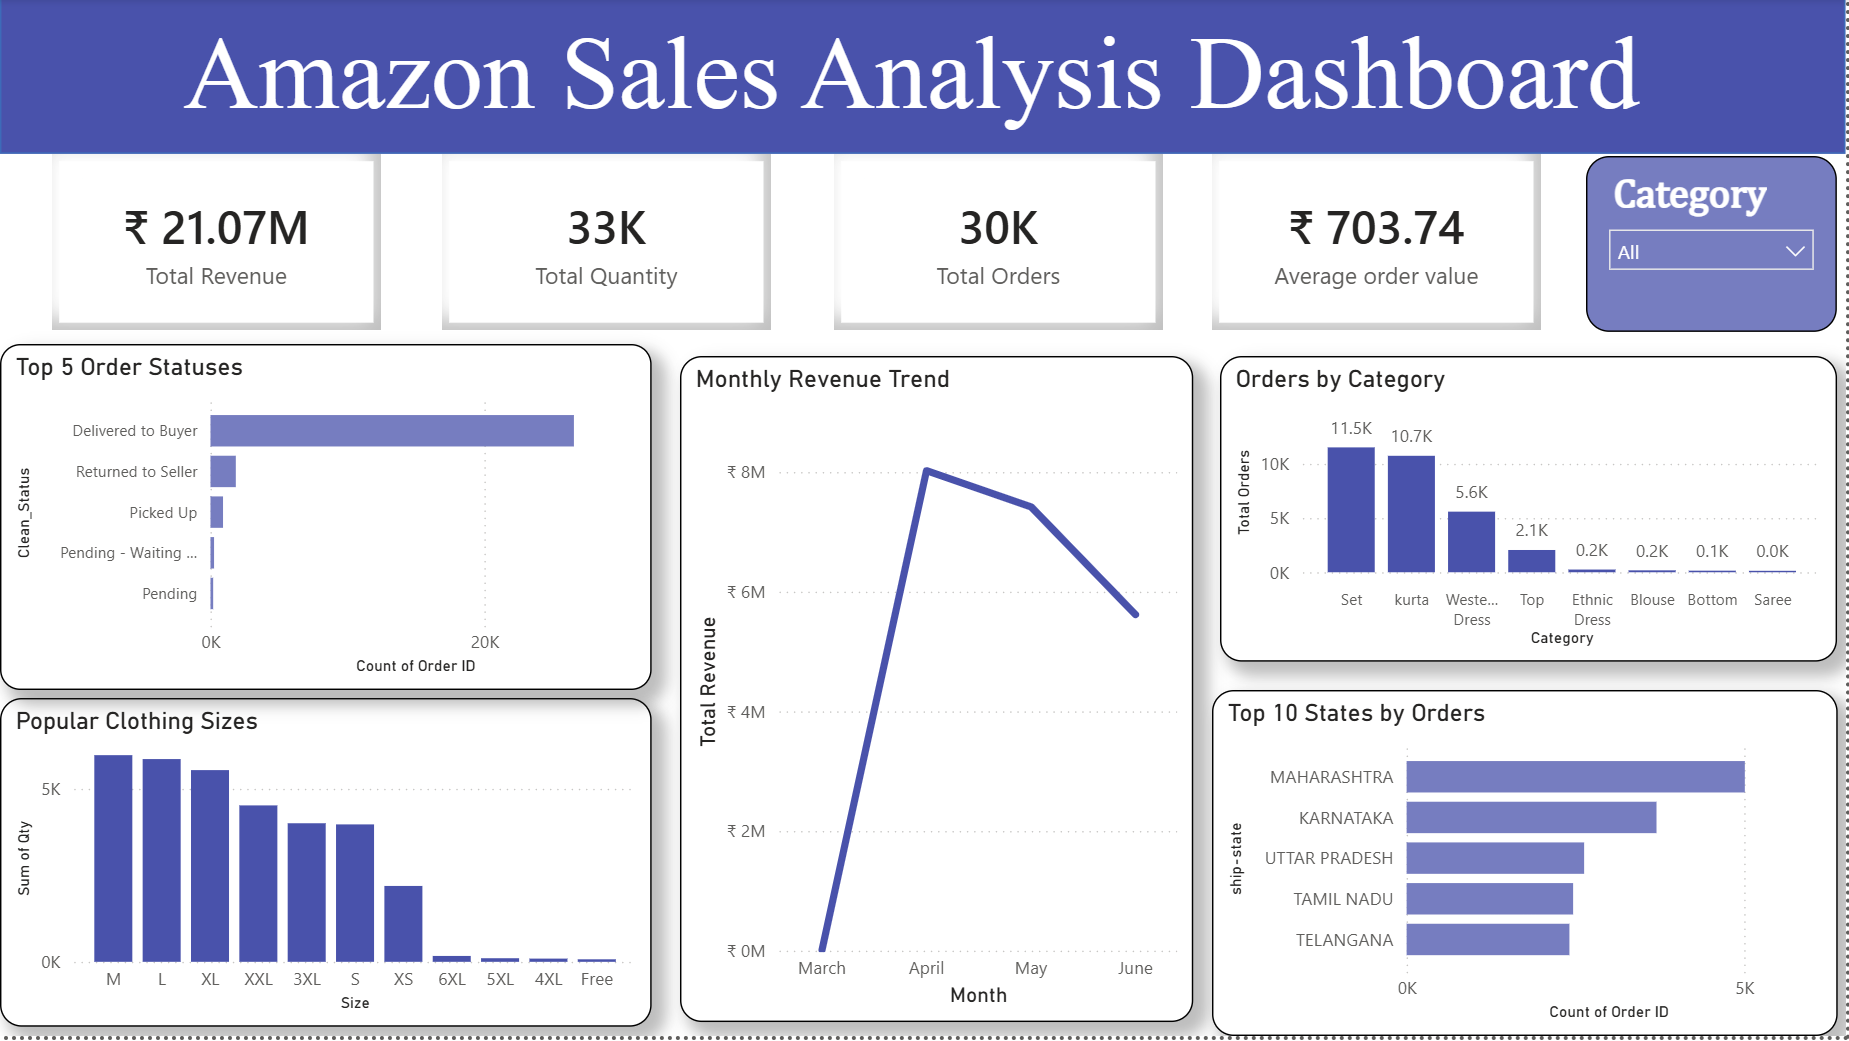

The dashboard page shown, as its layout file describes it:
{"tool":"powerbi","page":{"name":"Page 1","canvas":[1280,720],"ordinal":0},"visuals":[{"type":"lineChart","title":"Monthly Revenue Trend","fields":{"Category":["Table1.Date.Variation.Date Hierarchy.Month"],"Y":["Table1.Total Revenue"]},"box":[472,248,356,462],"z":0},{"type":"clusteredColumnChart","title":"Orders by Category","fields":{"Category":["Table1.Category"],"Y":["Table1.Total Orders"]},"box":[846,248,428,212],"z":1000},{"type":"clusteredBarChart","title":"Top 10 States by Orders","fields":{"Category":["Table1.ship-state"],"Y":["Table1.Count of Order ID"]},"box":[840,480,434,240],"z":2000},{"type":"columnChart","title":"Popular Clothing Sizes","fields":{"Category":["Table1.Size"],"Y":["Sum(Table1.Qty)"]},"box":[0,486,452,228],"z":3000},{"type":"clusteredBarChart","title":"Top 5 Order Statuses","fields":{"Category":["Table1.Clean_Status"],"Y":["Table1.Count of Order ID"]},"box":[0,240,452,240],"z":4000},{"type":"slicer","fields":{"Values":["Table1.Category"]},"box":[1100,110,174,122],"z":5000},{"type":"cardVisual","fields":{"Data":["Table1.Total Revenue"]},"box":[36,108,228,122],"z":6000},{"type":"shape","title":"E-Commerce Sales Dashboard","box":[0,0,1280,108],"z":7000},{"type":"cardVisual","fields":{"Data":["Table1.Total Quantity"]},"box":[306,108,228,122],"z":8000},{"type":"cardVisual","fields":{"Data":["Table1.Total Orders"]},"box":[578,108,228,122],"z":9000},{"type":"cardVisual","fields":{"Data":["Table1.Average order value"]},"box":[840,108,228,122],"z":10000},{"type":"textbox","box":[122,6,1036,96],"z":10002}]}

Visuals, with their boxes in screenshot pixels (x1, y1, x2, y2), scaled from the page's 1280x720 canvas onto the 1849x1041 screenshot:
"Monthly Revenue Trend" lineChart: [x1=682, y1=359, x2=1196, y2=1027]
"Orders by Category" clusteredColumnChart: [x1=1222, y1=359, x2=1840, y2=665]
"Top 10 States by Orders" clusteredBarChart: [x1=1213, y1=694, x2=1840, y2=1040]
"Popular Clothing Sizes" columnChart: [x1=0, y1=703, x2=653, y2=1032]
"Top 5 Order Statuses" clusteredBarChart: [x1=0, y1=347, x2=653, y2=694]
slicer - Table1.Category: [x1=1589, y1=159, x2=1840, y2=335]
cardVisual - Table1.Total Revenue: [x1=52, y1=156, x2=381, y2=333]
"E-Commerce Sales Dashboard" shape: [x1=0, y1=0, x2=1848, y2=156]
cardVisual - Table1.Total Quantity: [x1=442, y1=156, x2=771, y2=333]
cardVisual - Table1.Total Orders: [x1=835, y1=156, x2=1164, y2=333]
cardVisual - Table1.Average order value: [x1=1213, y1=156, x2=1543, y2=333]
textbox: [x1=176, y1=9, x2=1673, y2=147]
